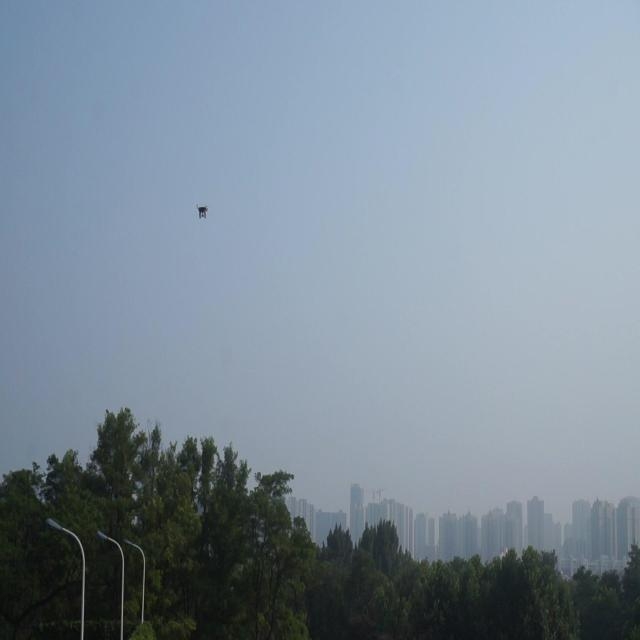drone: (195, 199, 211, 224)
